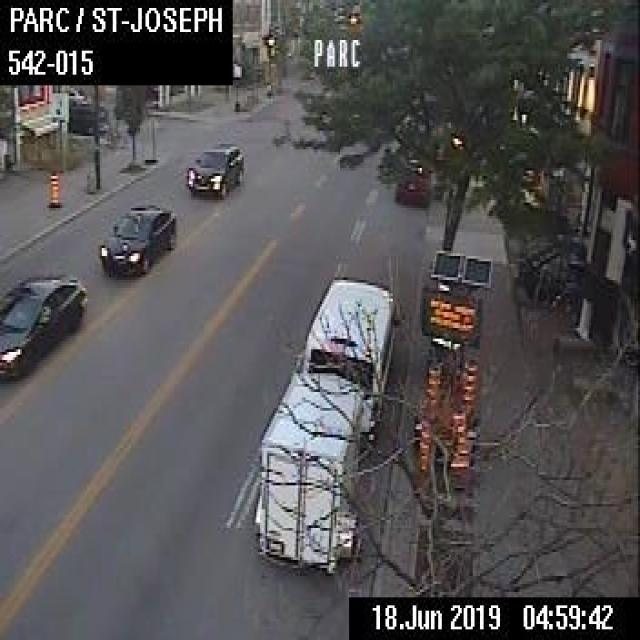construction: (411, 248, 493, 459), (447, 408, 470, 473), (456, 356, 478, 411), (420, 361, 440, 415), (416, 416, 431, 472)
vehicle: (253, 270, 400, 574), (0, 269, 87, 381), (98, 200, 178, 275), (184, 138, 244, 194), (392, 158, 432, 204), (68, 101, 109, 132), (67, 85, 86, 103)
